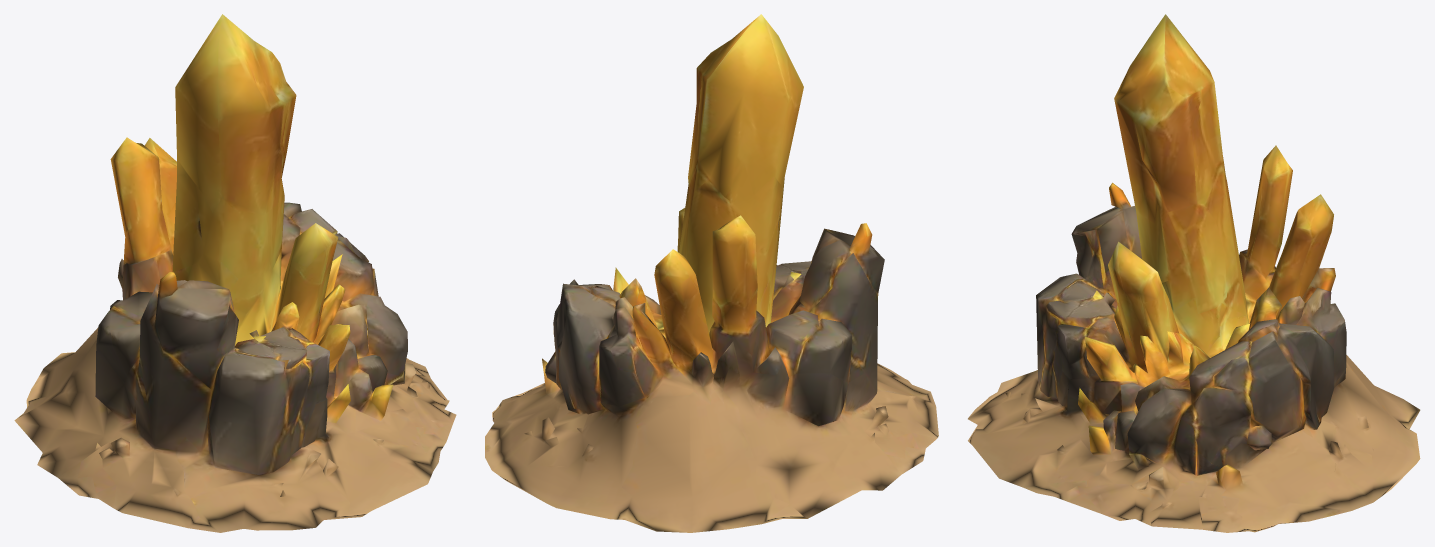
Rendered from sunsteel.glb.
The picture shows the model from 3 angles, left to right: view 1: azimuth 30°, elevation 25°; view 2: azimuth 150°, elevation 25°; view 3: azimuth 270°, elevation 25°; orthographic projection. The views are drawn at different scales.
Parts seen in each view (by area): view 1: tripo_node_1a1f7e41-6780-4b16-a66d-3d79c1d630fe; view 2: tripo_node_1a1f7e41-6780-4b16-a66d-3d79c1d630fe; view 3: tripo_node_1a1f7e41-6780-4b16-a66d-3d79c1d630fe.
Boxes of the visible parts, x1,y1,x2,y2 form: tripo_node_1a1f7e41-6780-4b16-a66d-3d79c1d630fe: (14,14,456,532); tripo_node_1a1f7e41-6780-4b16-a66d-3d79c1d630fe: (485,14,938,532); tripo_node_1a1f7e41-6780-4b16-a66d-3d79c1d630fe: (968,14,1420,532).
Size of the model in its own units: 0.9396 by 0.9987 by 0.9968.
Materials: 1 (1 with a texture image).
